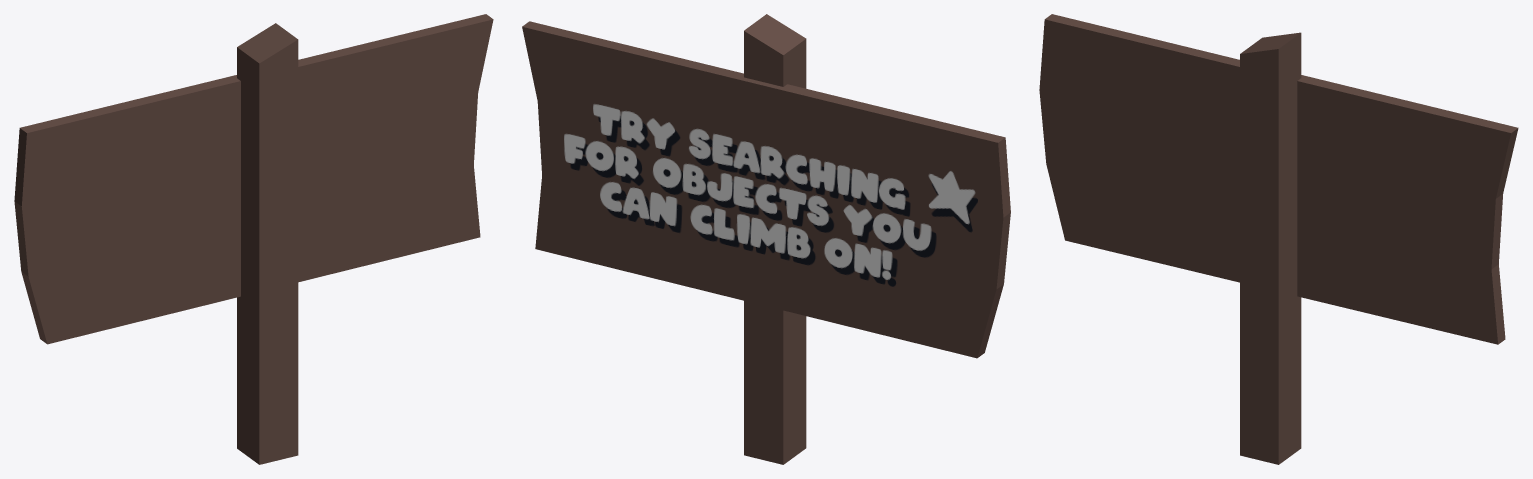
File: letrero_search.fbx
The picture shows the model from 3 angles, left to right: view 1: azimuth 30°, elevation 25°; view 2: azimuth 150°, elevation 25°; view 3: azimuth 330°, elevation 25°; orthographic projection. The views are drawn at different scales.
Visible parts, largest first — view 1: Cube.007, Cube.006; view 2: Cube.007, Cube.006; view 3: Cube.007, Cube.006.
Boxes of the visible parts, left/top/right/bottom form: Cube.007: left=14, top=14, right=493, bottom=344; Cube.006: left=237, top=23, right=298, bottom=464; Cube.007: left=522, top=21, right=1010, bottom=358; Cube.006: left=744, top=14, right=806, bottom=464; Cube.007: left=1039, top=14, right=1518, bottom=344; Cube.006: left=1240, top=32, right=1301, bottom=464.
Bounding box in the file's own units: 898 × 757 × 85.44.
